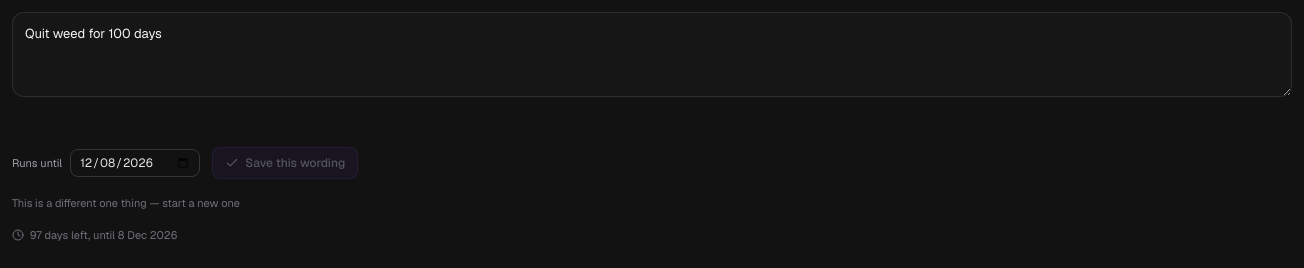
it: amending, extending and starting are three different acts › asks before starting a new one, and says the clock restarts
What coordinates should you click on to do the following:
click the button with test id "one-thing-new"
I would click on:
 (126, 204)
Its box is [12,195,240,212].
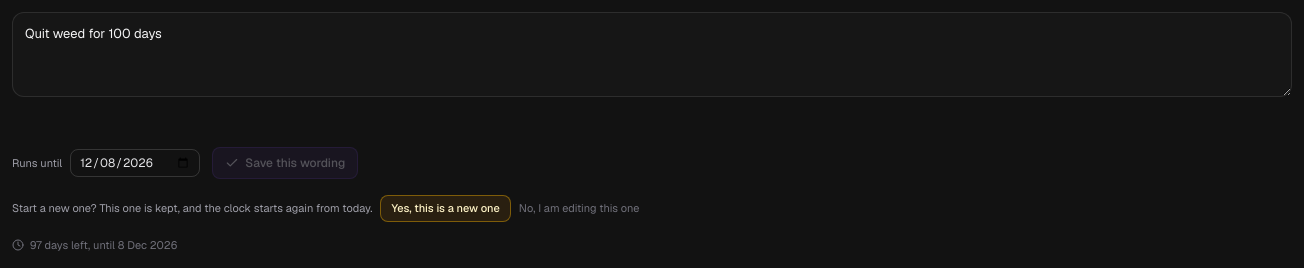
Expected: the text "the clock starts again from today" is shown, [12,201,372,215]
Expected: the button with test id "one-thing-start-new" is shown, [380,195,511,222]
